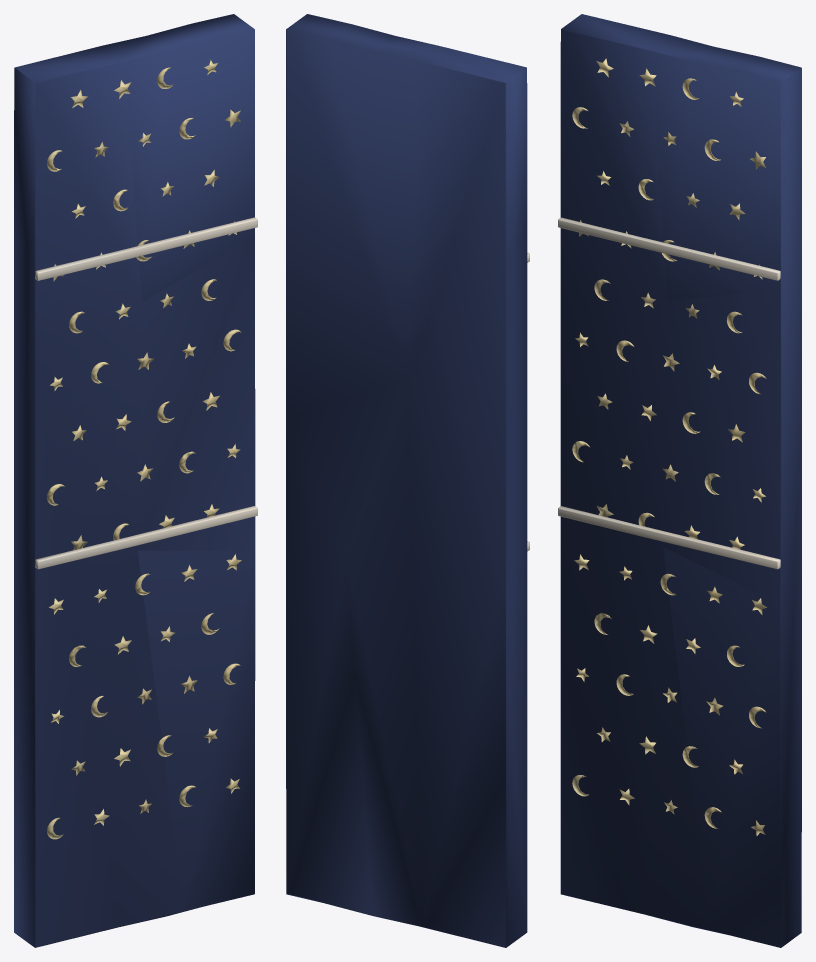
File: den_wallpaper_wall_lod1.glb
3 views of the same model, side by side, from view 1: azimuth 30°, elevation 25°; view 2: azimuth 150°, elevation 25°; view 3: azimuth 330°, elevation 25° (orthographic).
Parts seen in each view (by area): view 1: den_wallpaper_wall.001; view 2: den_wallpaper_wall.001; view 3: den_wallpaper_wall.001.
Part boxes in pixels (x1=…): den_wallpaper_wall.001: x1=14, y1=14, x2=257, y2=947; den_wallpaper_wall.001: x1=286, y1=14, x2=529, y2=947; den_wallpaper_wall.001: x1=558, y1=14, x2=801, y2=947.
Bounding box in the file's own units: 24 × 90.08 × 4.55.
